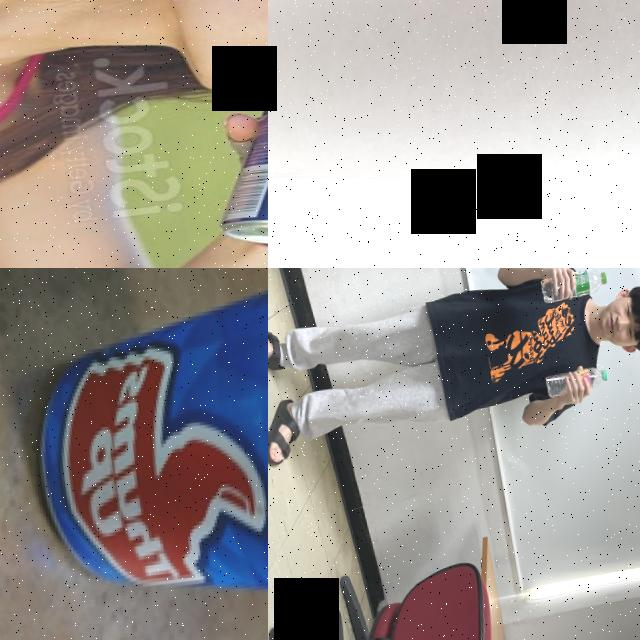bottle: (537, 268, 606, 303), (544, 363, 610, 399)
can: (16, 268, 268, 631), (191, 38, 268, 257)
cup: (268, 0, 640, 268)
